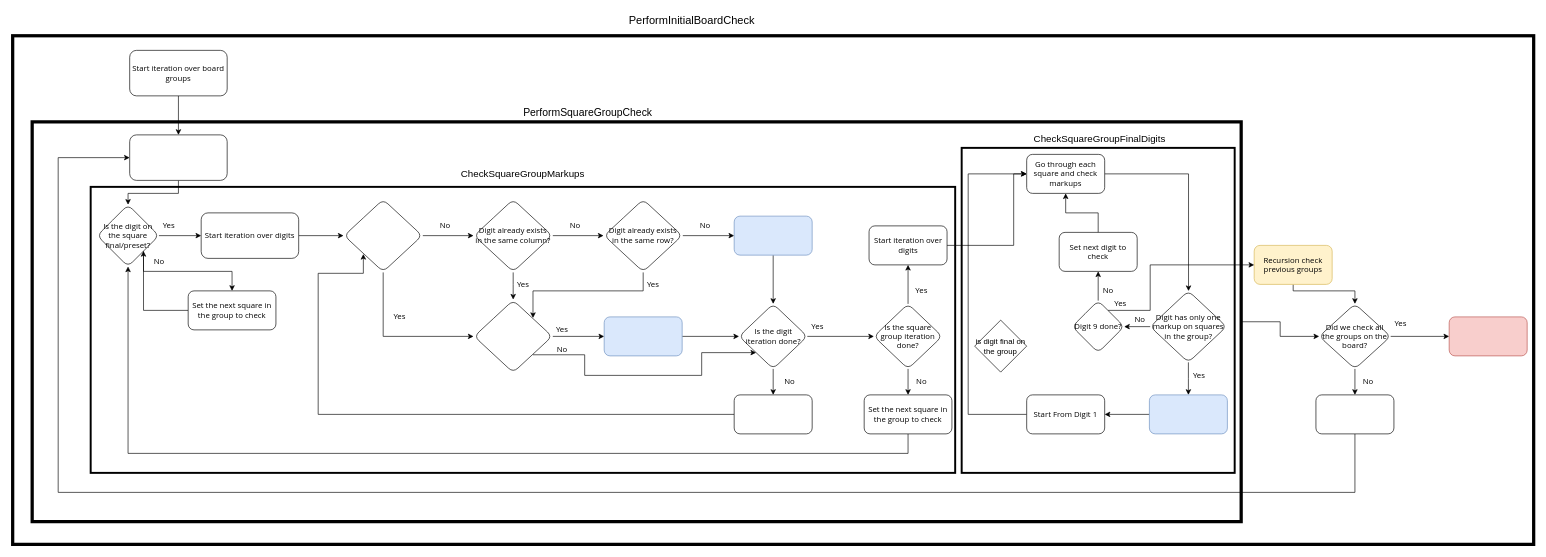
Some shapes in this 1546 by 557 pixel diagram are drawn without their labels. Here are the shapes that lost their labels. From the top down, the box of each, then its label:
(129, 134, 227, 180): Start iteration over group squares
(344, 199, 422, 272): Digit already exists in the same square group?
(734, 215, 812, 255): Set as potential digit in the checked square
(474, 300, 552, 373): Markup for potential digit exists?
(604, 316, 682, 356): Remove digit markup
(1449, 316, 1527, 356): Initial check finished
(734, 394, 812, 434): Set the next digit to check
(1149, 394, 1227, 434): Set digit as final
(1315, 394, 1394, 434): Set the next group in the board to check
